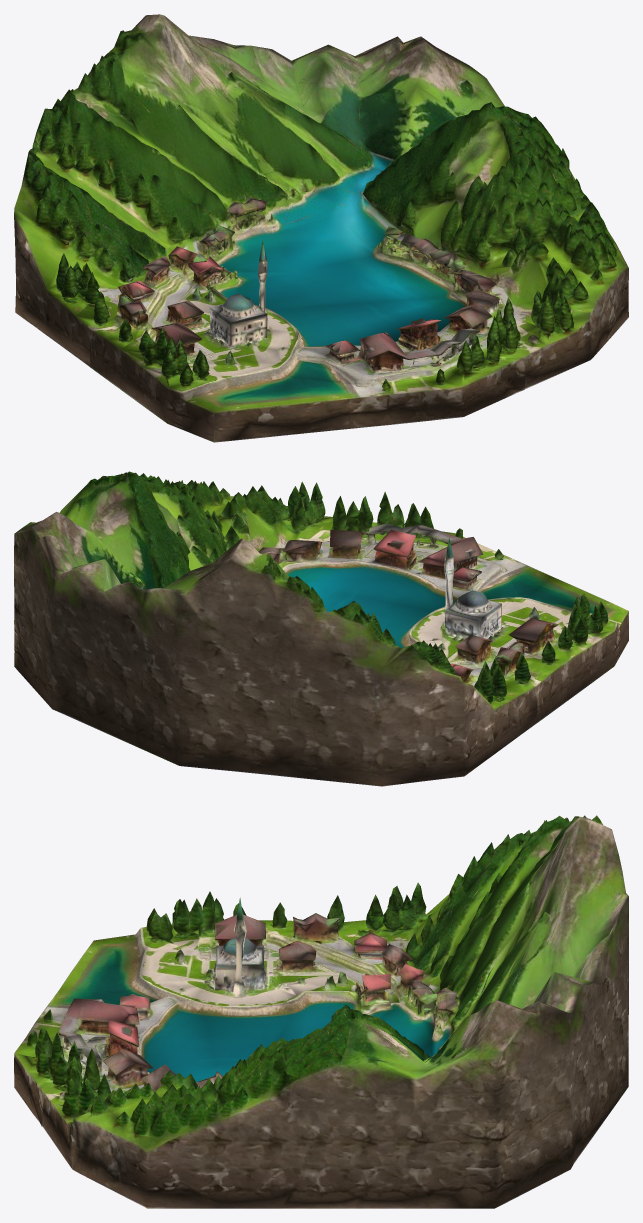
File: city_trabzon_uzungol.glb
3 views of the same model, one above another, from view 1: azimuth 30°, elevation 25°; view 2: azimuth 150°, elevation 25°; view 3: azimuth 270°, elevation 25° (orthographic). The views are drawn at different scales.
Visible parts, largest first — view 1: Mesh1.0; view 2: Mesh1.0; view 3: Mesh1.0.
Boxes of the visible parts, x1,y1,x2,y2 form: Mesh1.0: [14, 14, 628, 442]; Mesh1.0: [14, 471, 628, 786]; Mesh1.0: [14, 815, 628, 1208].
Size of the model in its own units: 55.1 by 26 by 58.68.
1 material, 1 textured.
